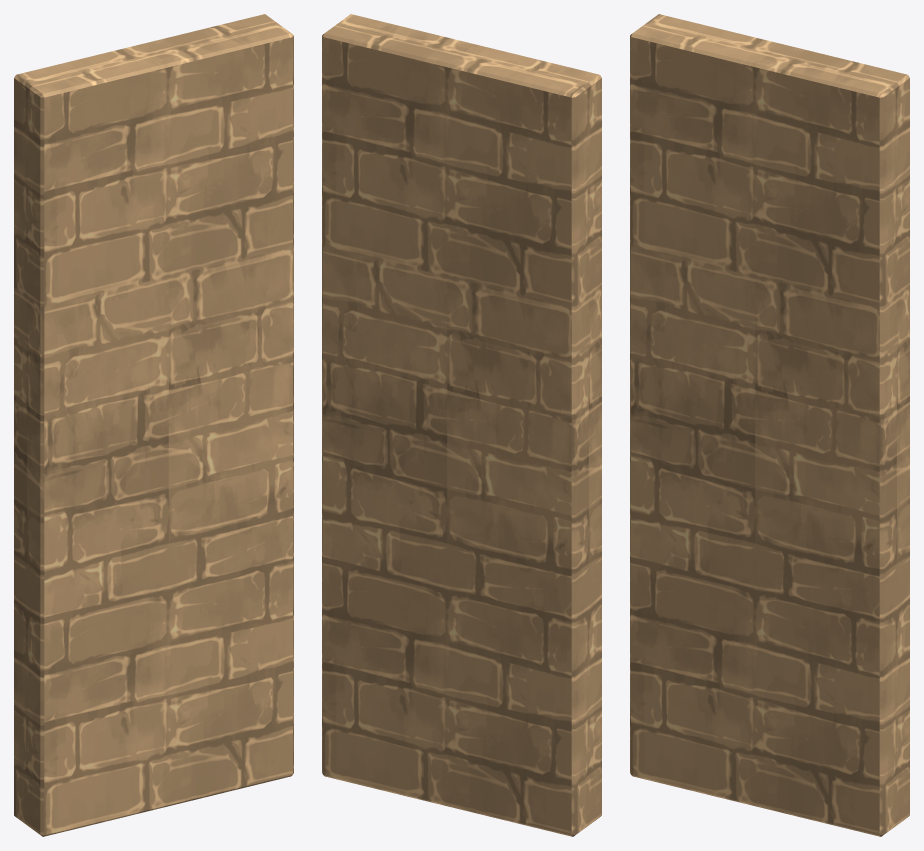
The model's file is wall_1m.gltf.
3 views of the same model, side by side, from view 1: azimuth 30°, elevation 25°; view 2: azimuth 150°, elevation 25°; view 3: azimuth 330°, elevation 25° (orthographic).
Parts seen in each view (by area): view 1: wall_1m; view 2: wall_1m; view 3: wall_1m.
Part boxes in pixels (x1,y1,x2,y2): wall_1m: (14, 14, 293, 836); wall_1m: (322, 14, 601, 836); wall_1m: (630, 14, 909, 836).
Bounding box in the file's own units: 1 × 2.8 × 0.2.
Materials: 1 (1 with a texture image).
